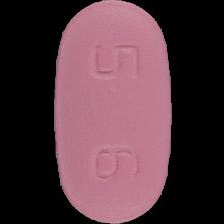53808-0749: (0, 0, 224, 224)
